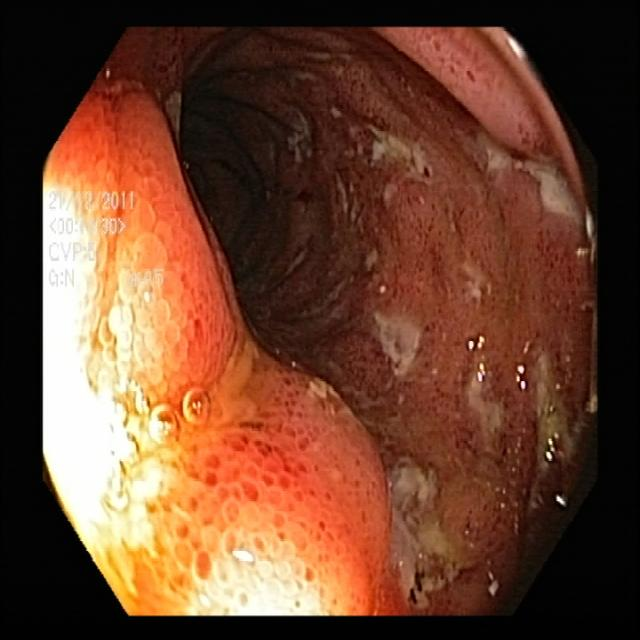ulcerative-colities: (38, 24, 603, 625)
